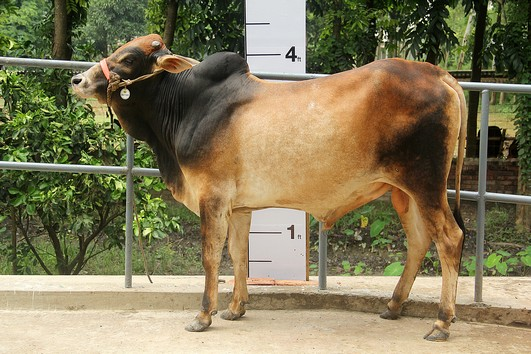cow: (59, 28, 472, 338)
